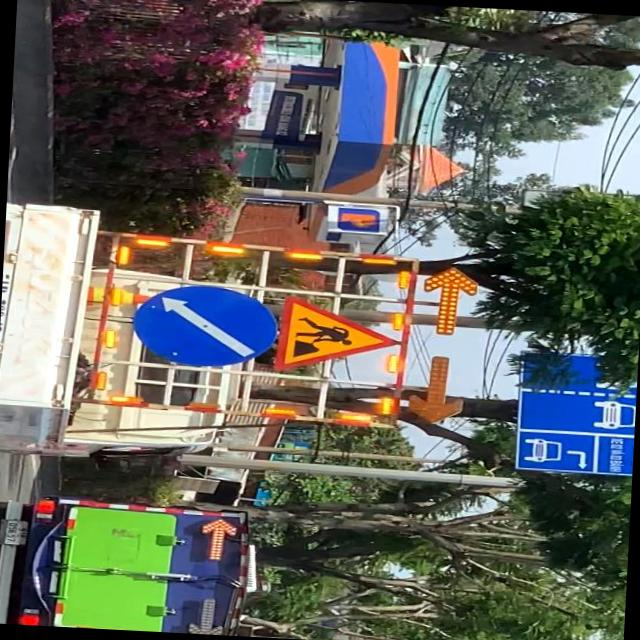R-302b: (132, 281, 280, 374)
